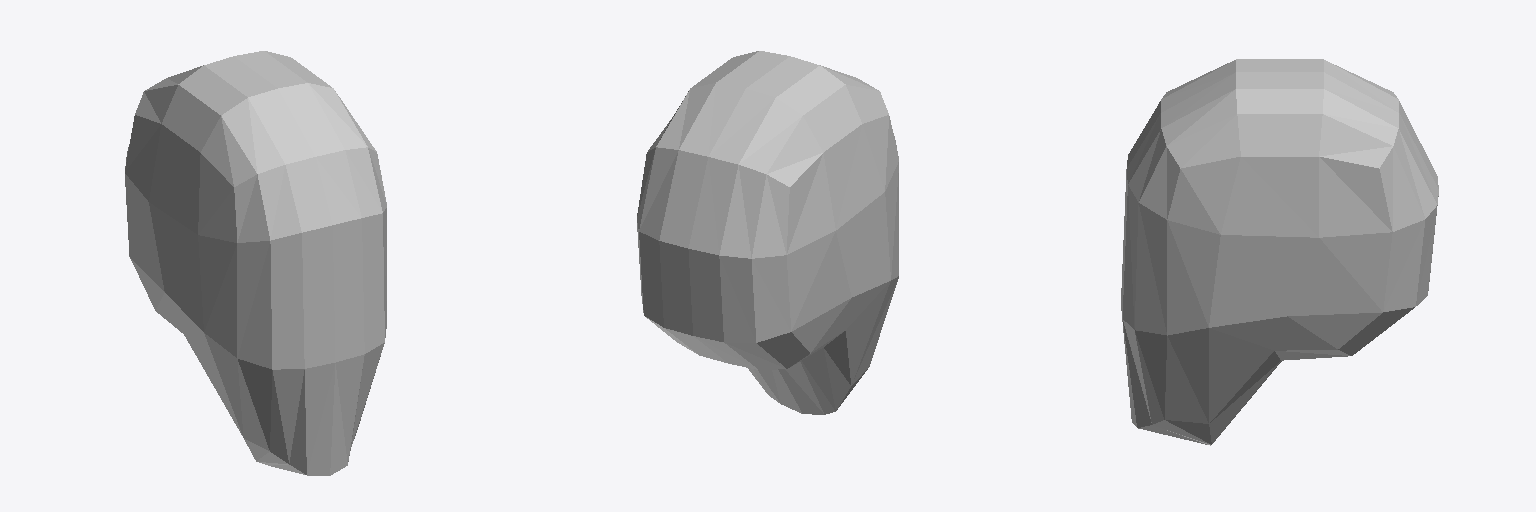
Rendered from head_s.obj.
3 views of the same model, side by side, from view 1: azimuth 30°, elevation 25°; view 2: azimuth 150°, elevation 25°; view 3: azimuth 270°, elevation 25° (orthographic).
Parts seen in each view (by area): view 1: 1; view 2: 1; view 3: 1.
Boxes of the visible parts, box(x1,y1,x2,y2) form: 1: box(125, 51, 386, 475); 1: box(637, 51, 898, 414); 1: box(1121, 59, 1438, 445).
Bounding box in the file's own units: 0.1207 × 0.2419 × 0.19.